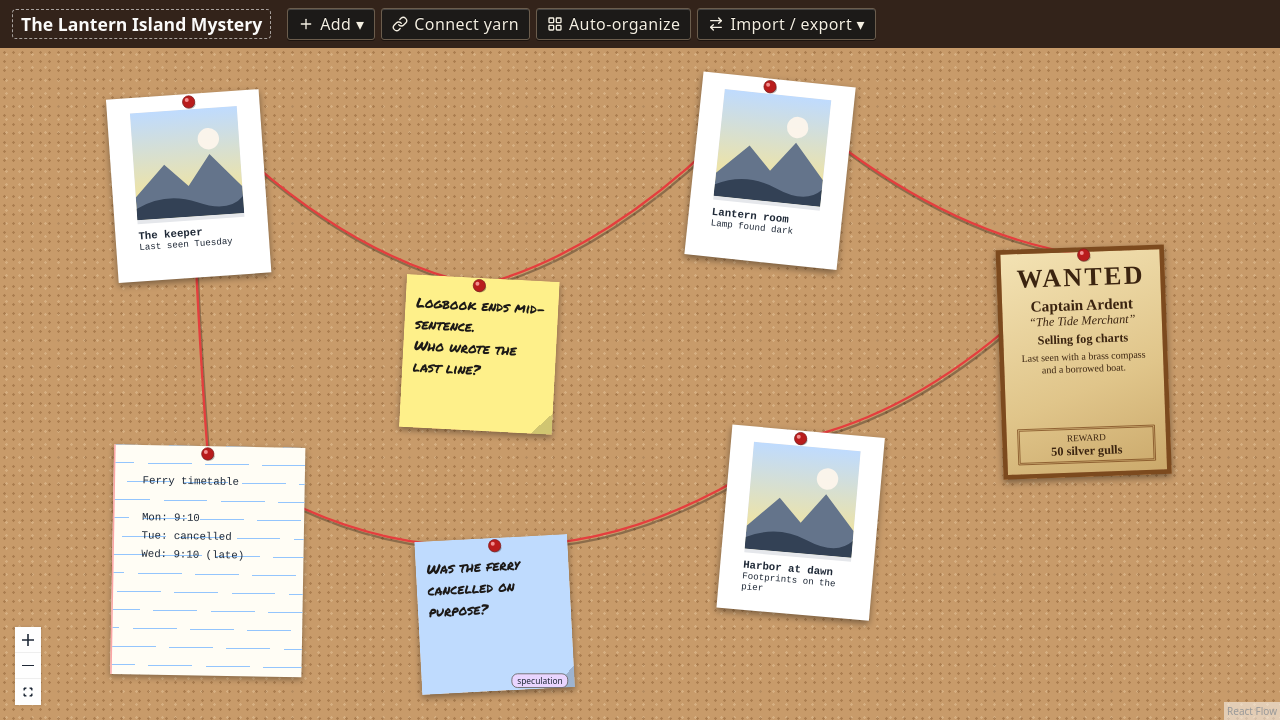
Test: widget dialog: modal behaviour › a backdrop click closes and returns focus; a click inside does not close
Click the element showing "Harbor at dawn Footprints on the pier". click: (801, 523)
box: [724,431,877,614]
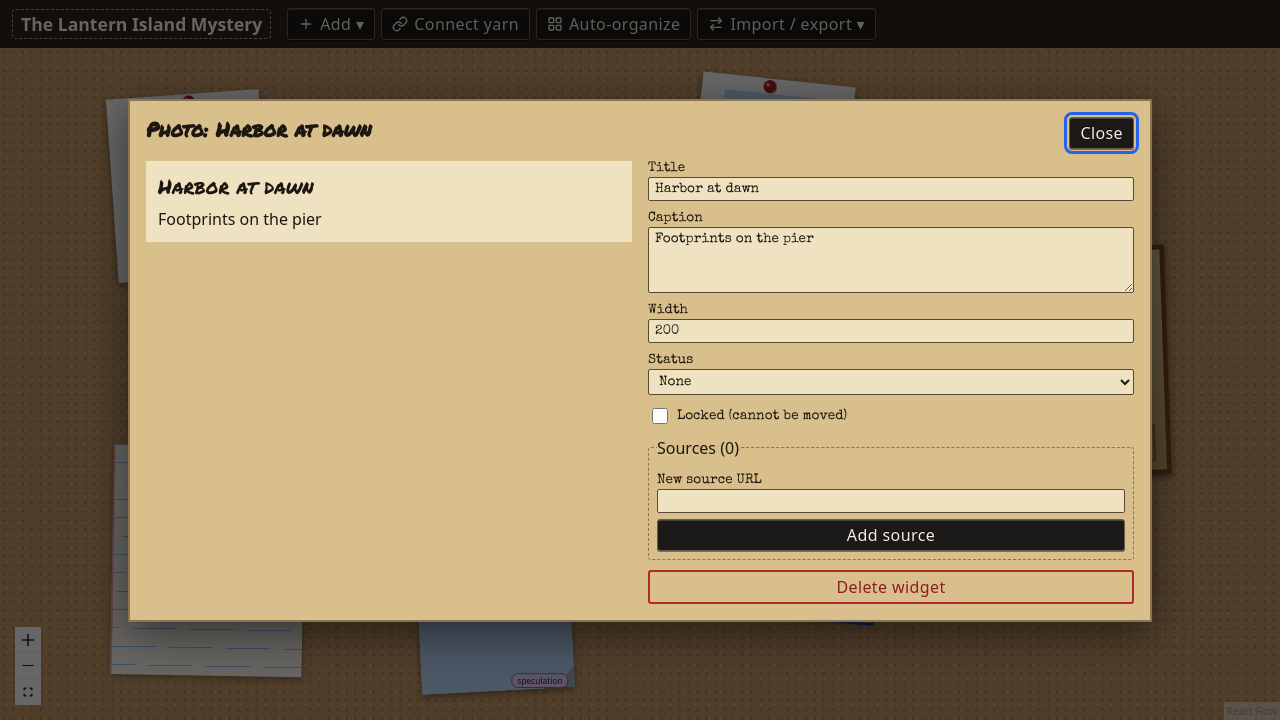
Click the dialog. click: (640, 360)
box: [128,98,1152,622]
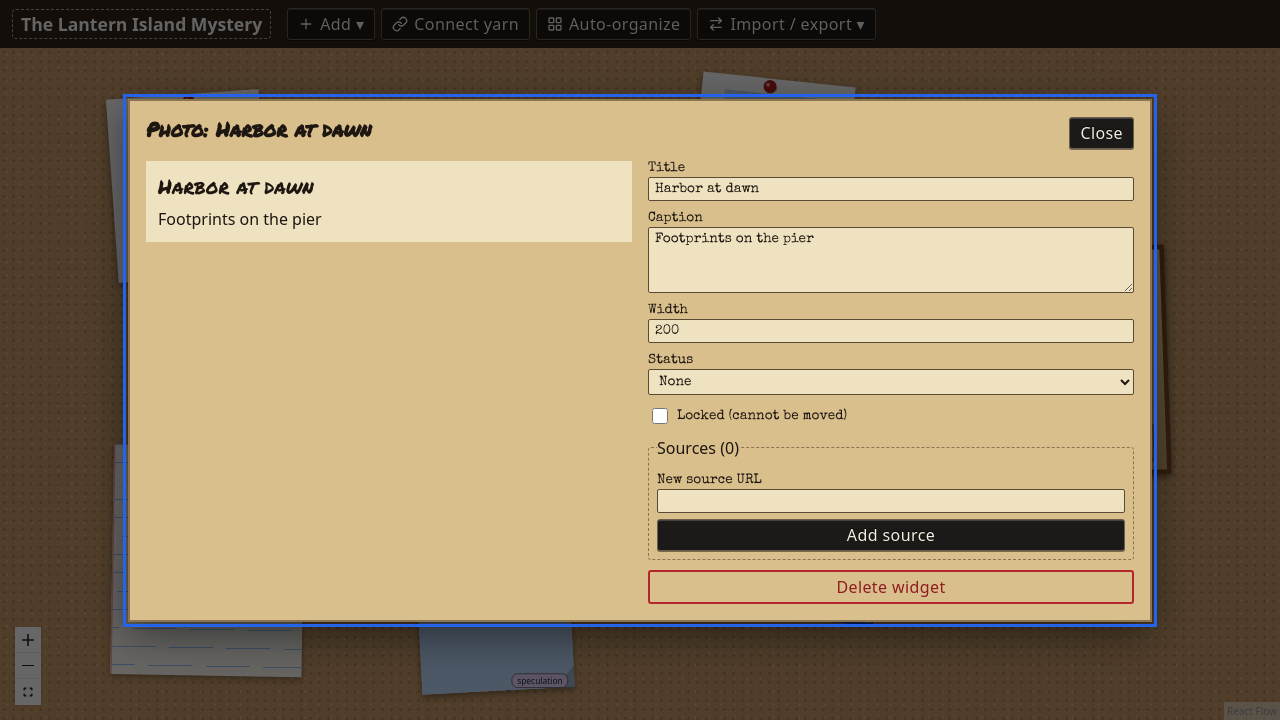
expect the dialog is shown: met, box [128,98,1152,622]
Click the element that starts with "Photo: Harbor at dawn". click: (77, 360)
box: [0,0,1279,719]
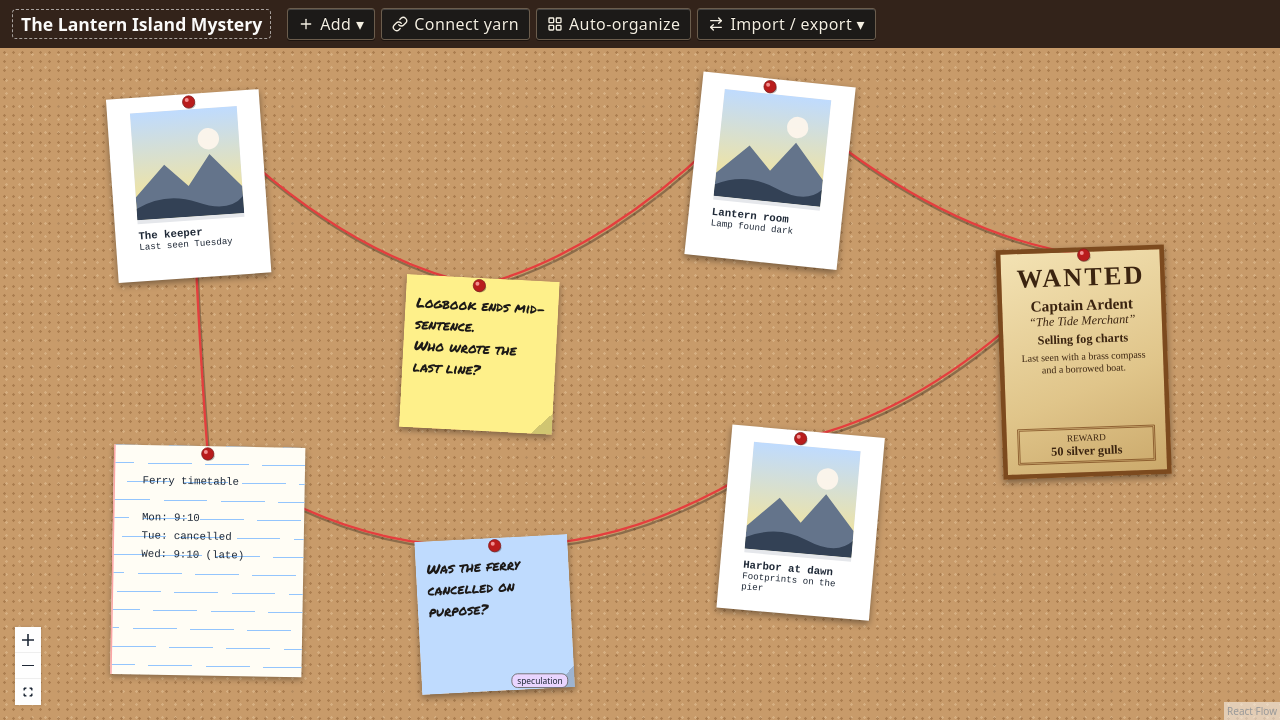
expect the dialog is gone: met
